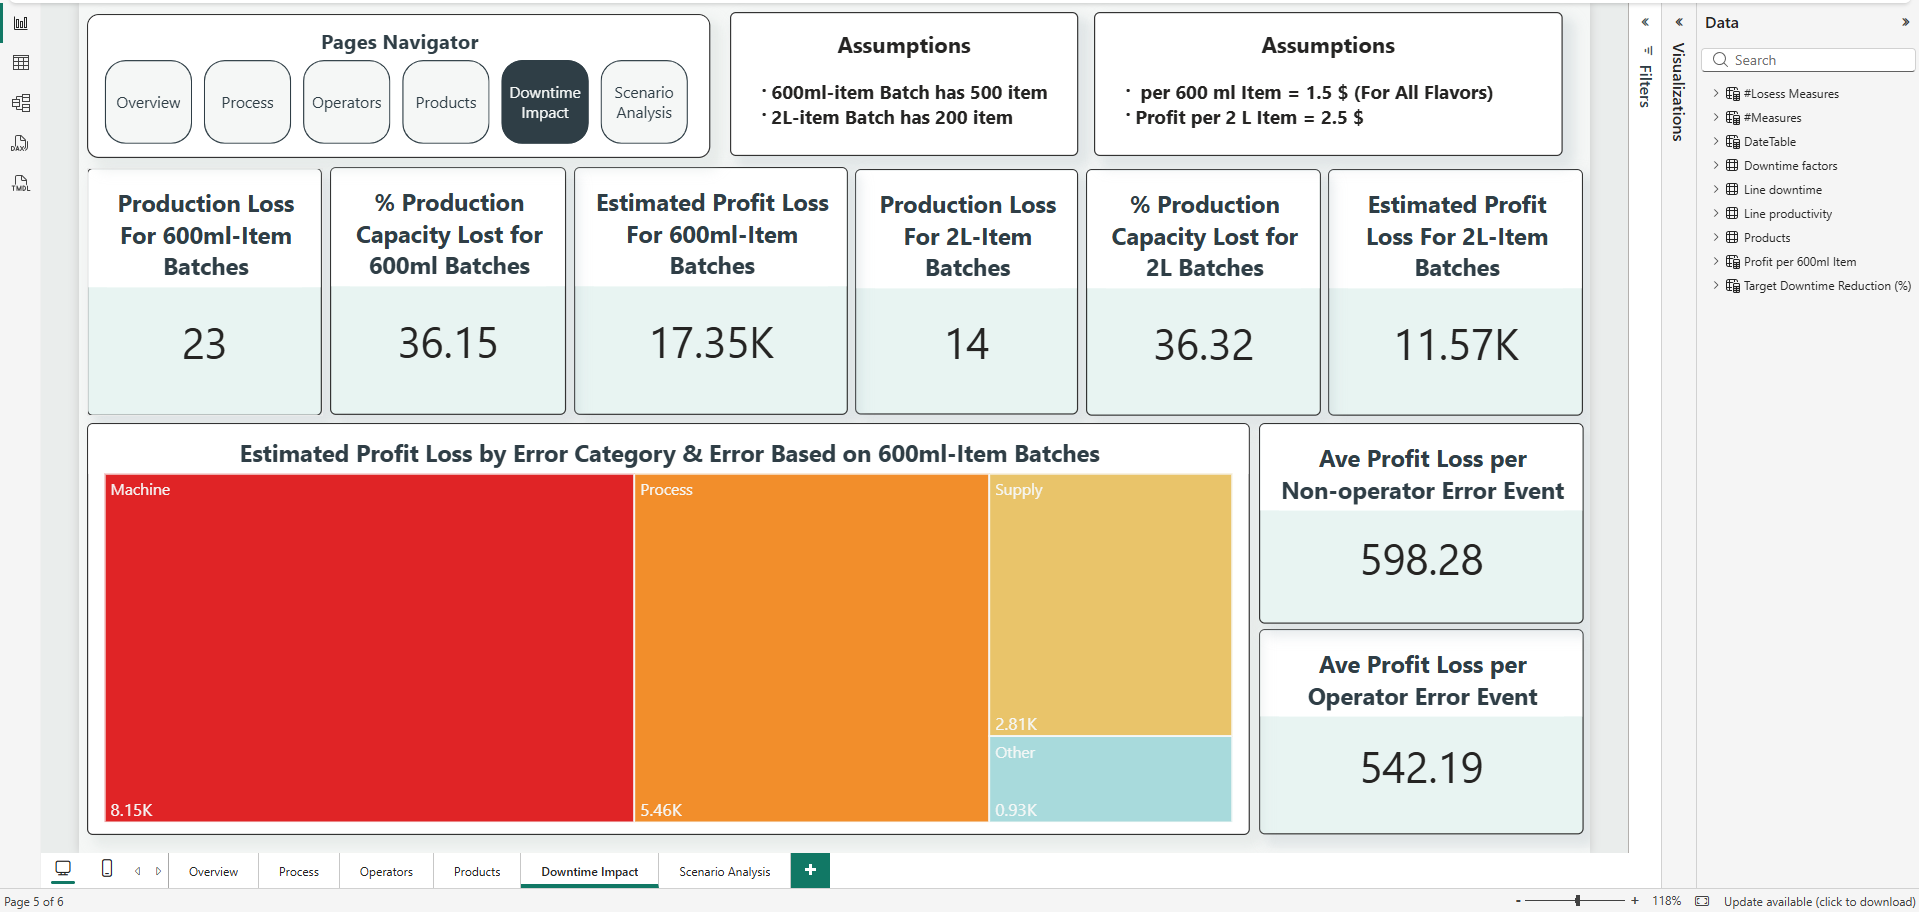

What the dashboard file says about the page in this screenshot:
{"tool":"powerbi","page":{"name":"Downtime Impact","canvas":[1280,720],"ordinal":4},"visuals":[{"type":"textbox","box":[551.2,9.5,295,121.6],"z":0},{"type":"card","title":"Production Loss For 600ml-Item Batches ","fields":{"Values":["Products.Production Loss For 600 ml Item Batches"]},"box":[7,139.9,199.2,209.6],"z":1000},{"type":"card","title":"Production Loss For 2L-Item Batches","fields":{"Values":["Products.Production Loss For 2 L Item Batches"]},"box":[657.6,140.7,188.9,207.9],"z":2000},{"type":"card","title":"Estimated Profit Loss For 600ml-Item Batches","fields":{"Values":["#Losess Measures.Estimated Revenue Loss For 600 ml"]},"box":[419.2,139,232,209.6],"z":3000},{"type":"card","title":"Estimated Profit Loss For 2L-Item Batches","fields":{"Values":["#Losess Measures.Estimated Revenue Loss For 2 L"]},"box":[1058.3,140.7,216.5,208.7],"z":4000},{"type":"card","title":"% Production Capacity Lost for 600ml Batches","fields":{"Values":["#Losess Measures.% Production Capacity Lost for 600 ml"]},"box":[212.7,139,200.1,209.6],"z":5000},{"type":"card","title":"% Production Capacity Lost for 2L Batches","fields":{"Values":["#Losess Measures.% Production Capacity Lost for 2 L"]},"box":[853,140.7,199.2,208.7],"z":6000},{"type":"card","title":"Ave Profit Loss per Operator Error Event","fields":{"Values":["#Losess Measures.Ave Loss per Events"]},"box":[999.7,530.5,275.1,174.2],"z":7000},{"type":"treemap","title":"Estimated Profit Loss  by Error Category & Error Based on 600ml-Item Batches","fields":{"Group":["Downtime factors.Cause Category","Downtime factors.Description"],"Values":["#Losess Measures.Estimated Revenue Loss For 600 ml"]},"box":[6.9,355.5,985,349.3],"z":8000},{"type":"textbox","box":[859.9,9.5,414.9,121.6],"z":9000},{"type":"pageNavigator","title":"Pages Navigator","box":[6.9,9.5,527.9,121.6],"z":10000},{"type":"card","title":"Ave Profit Loss per Non-operator Error Event","fields":{"Values":["#Losess Measures.Ave Loss per Non-Operator Event"]},"box":[999.7,355.5,275.1,170],"z":11000}]}

Visuals, with their boxes on the page's 1280x720 design canvas (x1, y1, x2, y2). These are canvas units, not pixel positions in the 1919x912 screenshot, which may show the page scaled, cropped or inside an application window:
textbox: bbox=(551, 10, 846, 131)
"Production Loss For 600ml-Item Batches " card: bbox=(7, 140, 206, 350)
"Production Loss For 2L-Item Batches" card: bbox=(658, 141, 846, 349)
"Estimated Profit Loss For 600ml-Item Batches" card: bbox=(419, 139, 651, 349)
"Estimated Profit Loss For 2L-Item Batches" card: bbox=(1058, 141, 1275, 349)
"% Production Capacity Lost for 600ml Batches" card: bbox=(213, 139, 413, 349)
"% Production Capacity Lost for 2L Batches" card: bbox=(853, 141, 1052, 349)
"Ave Profit Loss per Operator Error Event" card: bbox=(1000, 530, 1275, 705)
"Estimated Profit Loss  by Error Category & Error Based on 600ml-Item Batches" treemap: bbox=(7, 356, 992, 705)
textbox: bbox=(860, 10, 1275, 131)
"Pages Navigator" pageNavigator: bbox=(7, 10, 535, 131)
"Ave Profit Loss per Non-operator Error Event" card: bbox=(1000, 356, 1275, 526)
